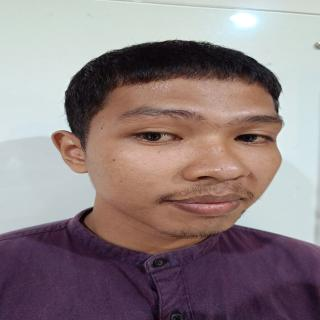Takut: (79, 62, 282, 247)
